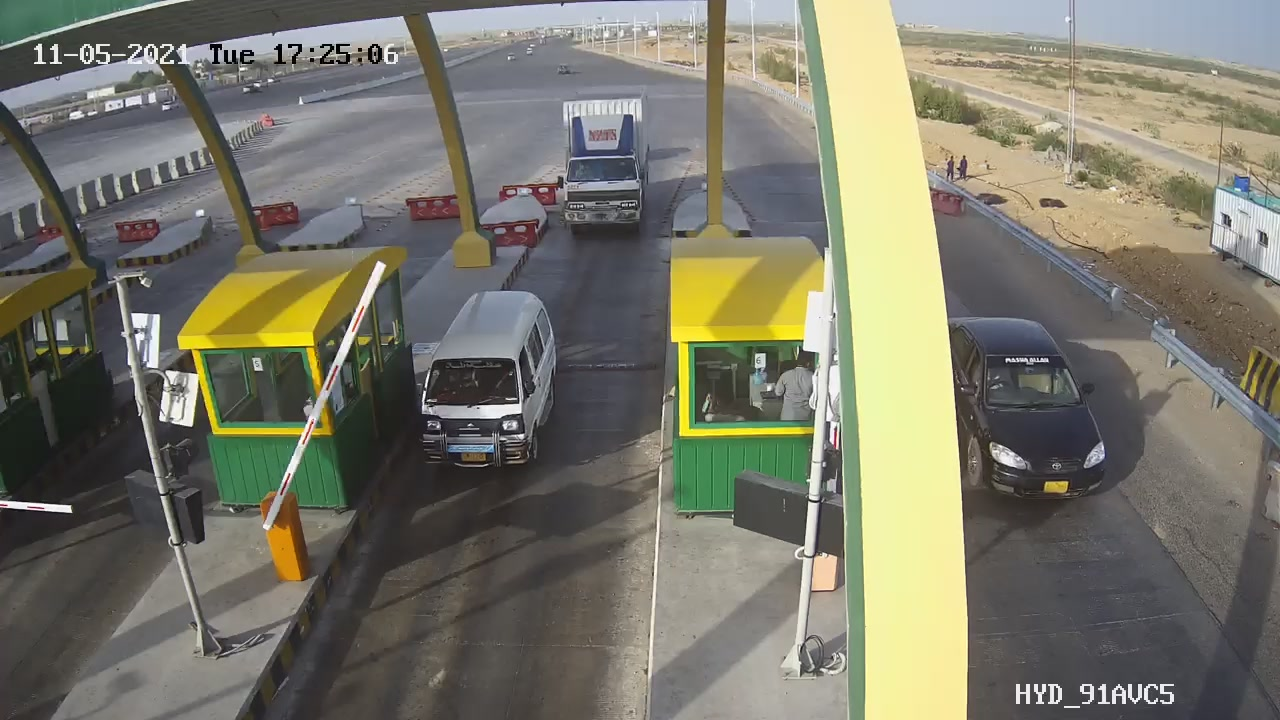F1: (396, 277, 583, 495)
